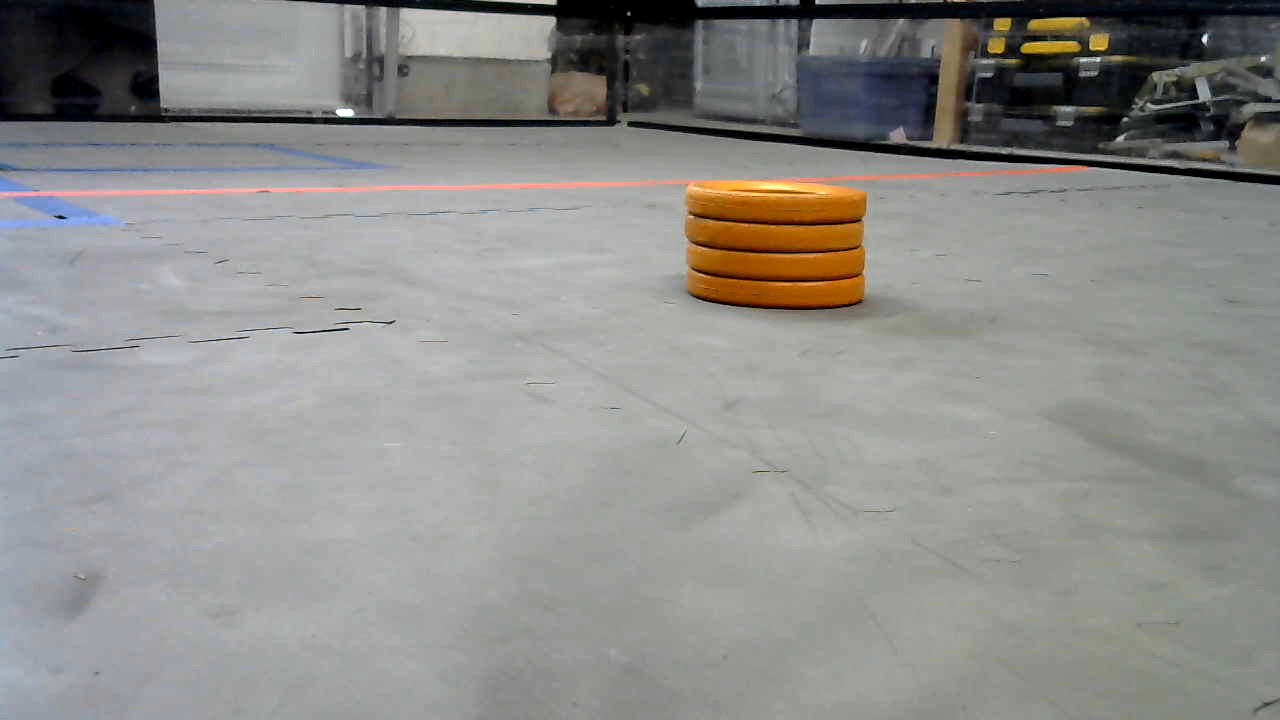FourStack: (686, 183, 867, 306)
